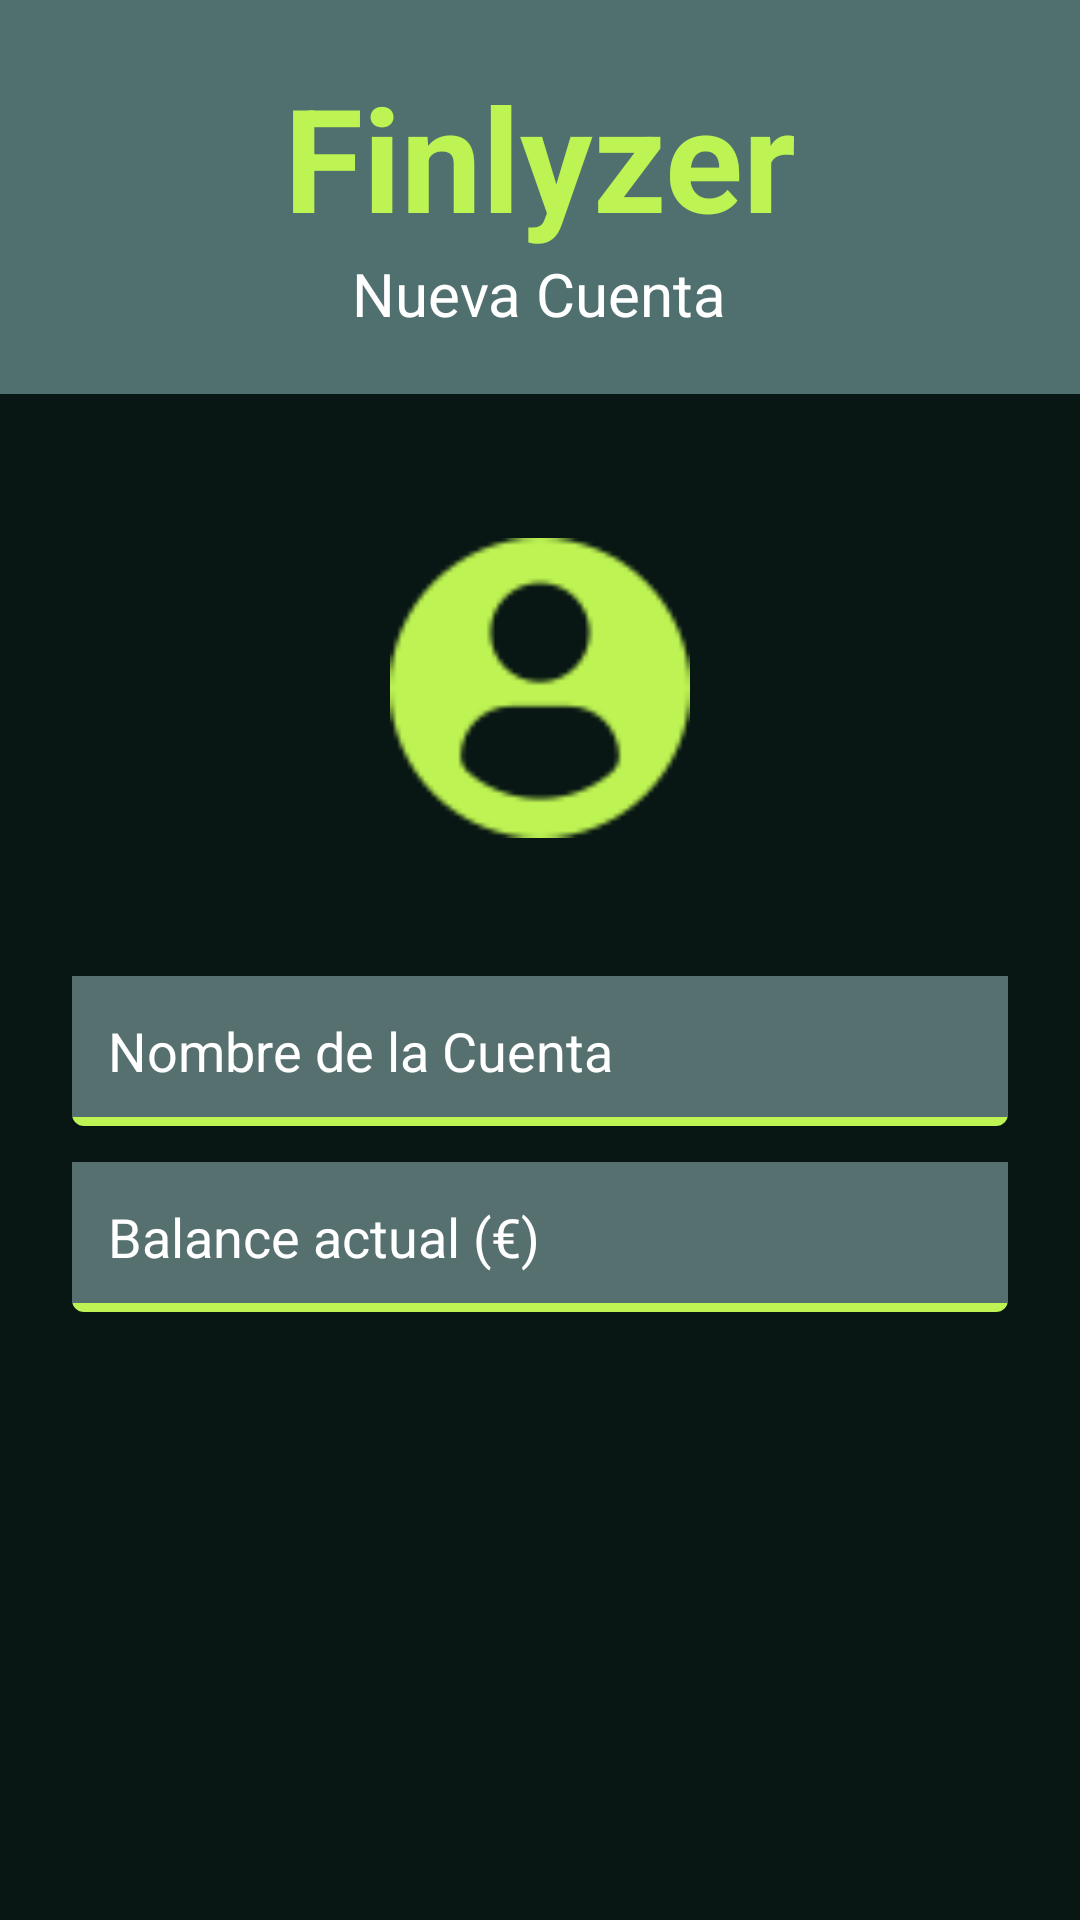

Icon click points for this 1080 x 1920 phone screenshot, format point (x, y):
profileuser: point (540, 688)
